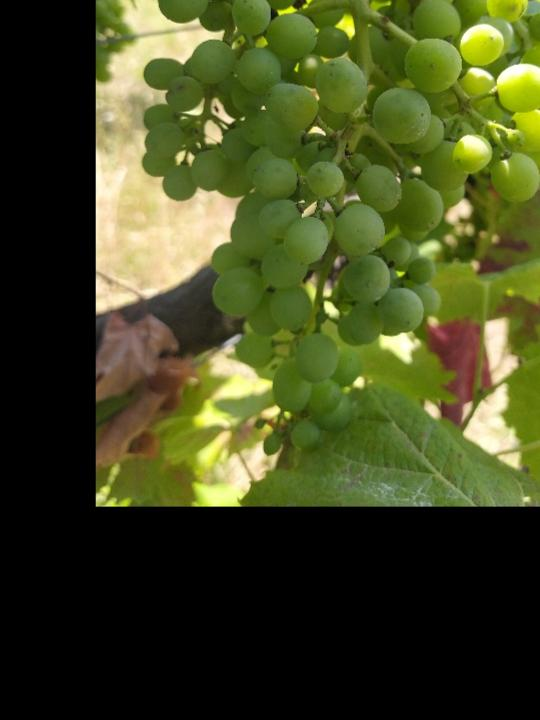grape: (140, 0, 540, 473)
